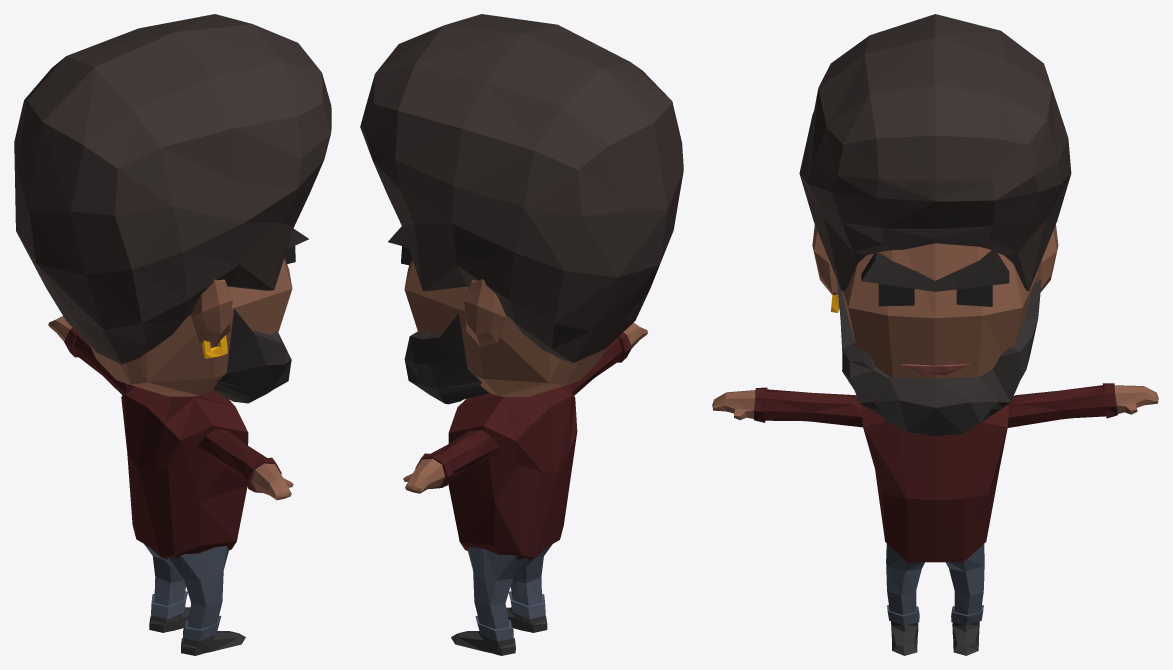
The model's file is Gangnam_Styletest.fbx.
3 renders of one model, left to right at view 1: azimuth 30°, elevation 25°; view 2: azimuth 150°, elevation 25°; view 3: azimuth 270°, elevation 25°, orthographic. The views are drawn at different scales.
Parts seen in each view (by area): view 1: Geo_Hairstyle_2, Geo_Body, Geo_Head, Geo_Beard_4, Geo_Leg_R, Geo_Arm_R, Geo_Leg_L, Geo_Hand_R, Geo_Arm_L, Geo_Foot_R, Geo_Foot_L; view 2: Geo_Hairstyle_2, Geo_Body, Geo_Head, Geo_Beard_4, Geo_Leg_L, Geo_Arm_L, Geo_Leg_R, Geo_Arm_R, Geo_Hand_L, Geo_Foot_L, Geo_Foot_R; view 3: Geo_Hairstyle_2, Geo_Head, Geo_Body, Geo_Beard_4, Geo_Arm_L, Geo_Arm_R, Geo_Eyebrow_2, Geo_Leg_R, Geo_Leg_L, Geo_Eye, Geo_Hand_L, Geo_Hand_R (+2 smaller).
Boxes of the visible parts, x1,y1,x2,y2 form: Geo_Hairstyle_2: (14,14,331,364); Geo_Body: (121,384,248,559); Geo_Head: (91,258,292,396); Geo_Beard_4: (213,309,291,403); Geo_Leg_R: (160,546,228,641); Geo_Arm_R: (197,429,281,492); Geo_Leg_L: (144,544,187,619); Geo_Hand_R: (251,463,293,500); Geo_Arm_L: (64,327,128,394); Geo_Foot_R: (181,631,245,655); Geo_Foot_L: (149,607,190,632); Geo_Hairstyle_2: (360,14,683,362); Geo_Body: (448,385,577,559); Geo_Head: (404,259,604,396); Geo_Beard_4: (404,313,489,404); Geo_Leg_L: (468,547,537,641); Geo_Arm_L: (415,429,498,488); Geo_Leg_R: (508,544,552,619); Geo_Arm_R: (568,332,631,395); Geo_Hand_L: (403,458,444,493); Geo_Foot_L: (451,631,515,655); Geo_Foot_R: (506,607,547,632); Geo_Hairstyle_2: (799,14,1071,291); Geo_Head: (812,224,1058,378); Geo_Body: (861,404,1009,562); Geo_Beard_4: (836,278,1041,436); Geo_Arm_L: (1007,383,1117,427); Geo_Arm_R: (754,387,862,427); Geo_Eyebrow_2: (861,250,1009,291); Geo_Leg_R: (886,543,924,625); Geo_Leg_L: (946,544,984,625); Geo_Eye: (878,282,992,306); Geo_Hand_L: (1114,385,1158,414); Geo_Hand_R: (712,390,755,419).
Bounding box in the file's own units: 1.36 × 2.79 × 1.9.
1 material, 1 textured.
